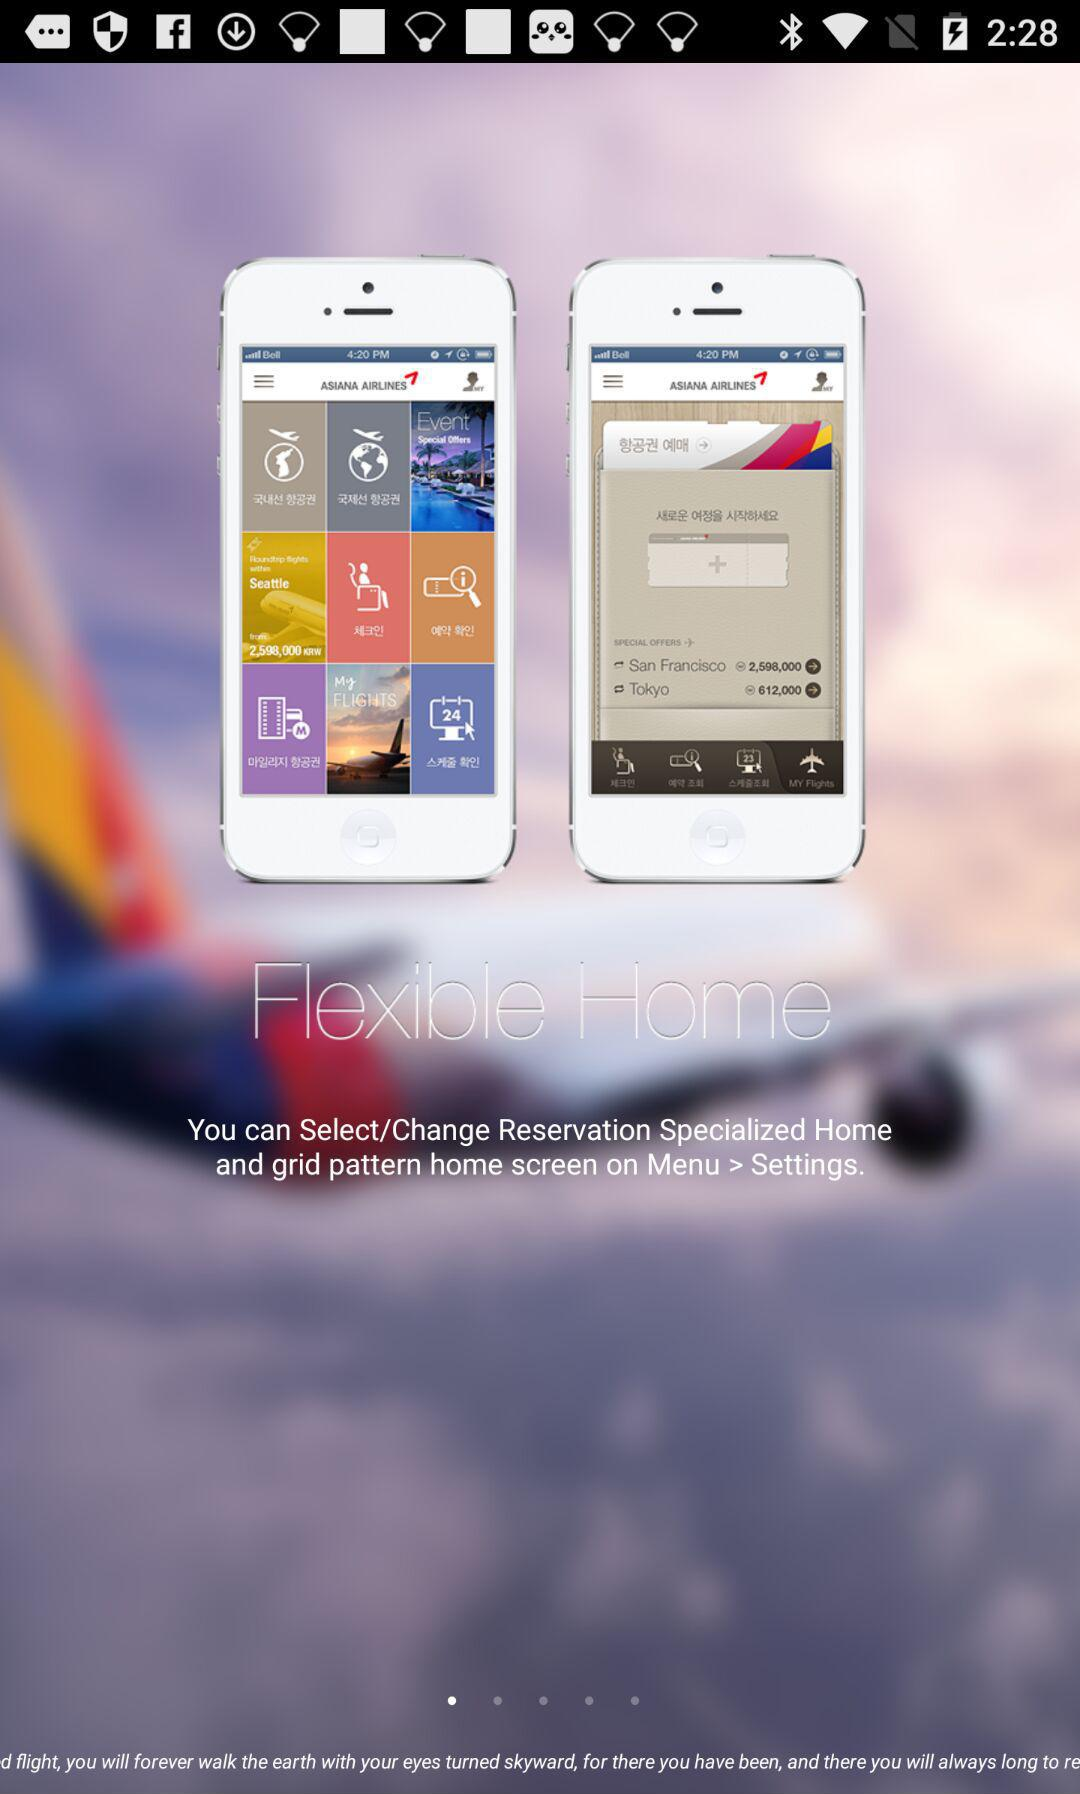BackgroundImage: (1, 64, 1080, 1794)
Image: (215, 252, 519, 887), (565, 252, 866, 885)
PageIndicator: (447, 1695, 641, 1708)
Text: (250, 959, 833, 1047), (184, 1114, 894, 1183), (1, 1750, 1080, 1775)
UpperTaskBar: (1, 1, 1080, 64)
